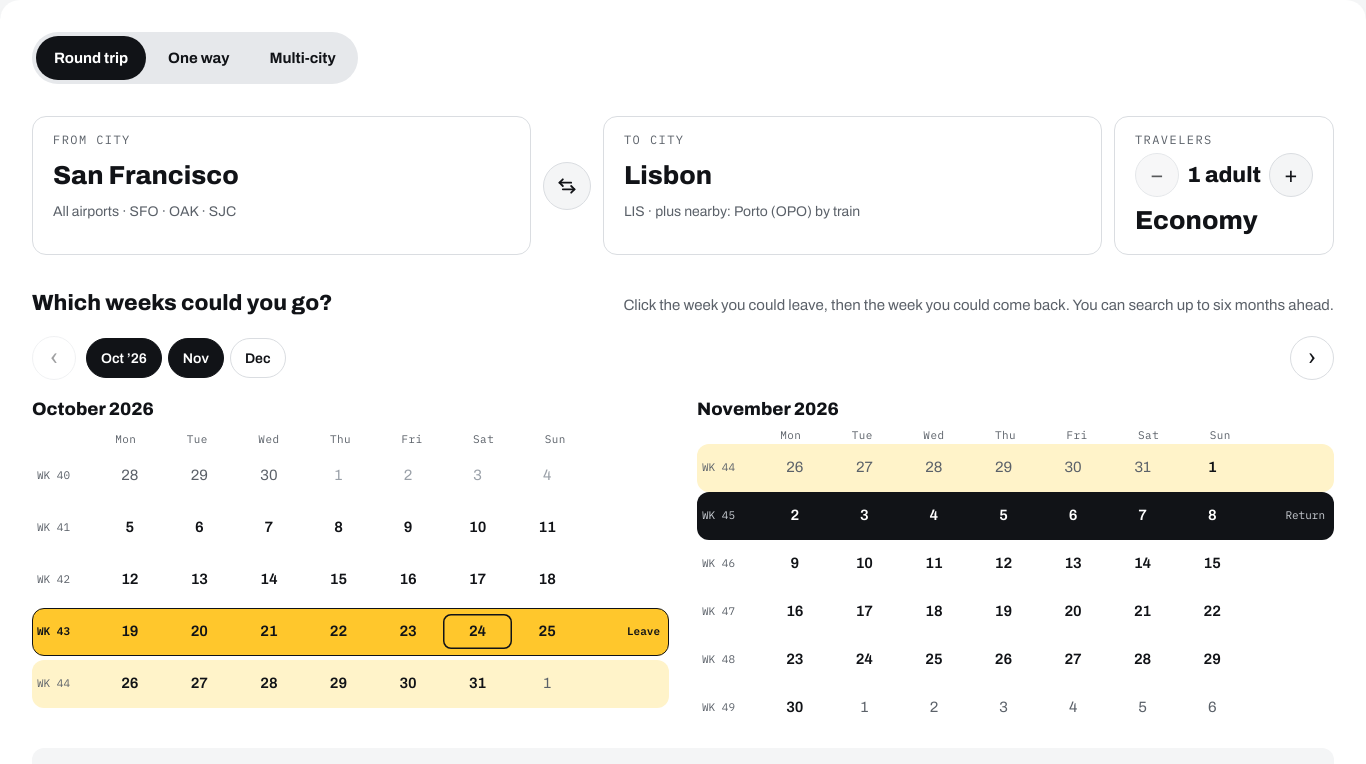
Scenario: trip type tabs › switching back to round trip suggests a return week
Click the button "One way" at (199, 58), box x1=150 y1=36 x2=247 y2=80
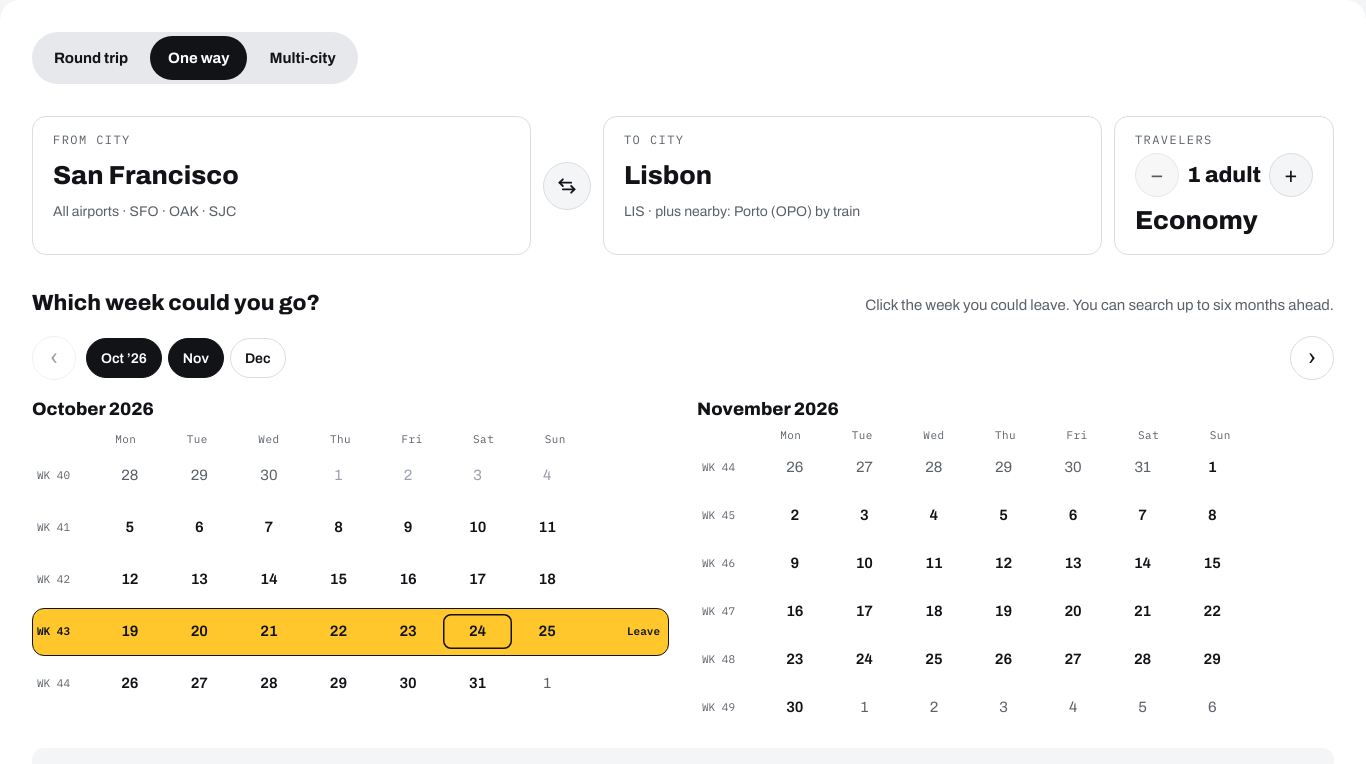
Click the button "Round trip" at (91, 58), box x1=36 y1=36 x2=146 y2=80
(page scrolled)
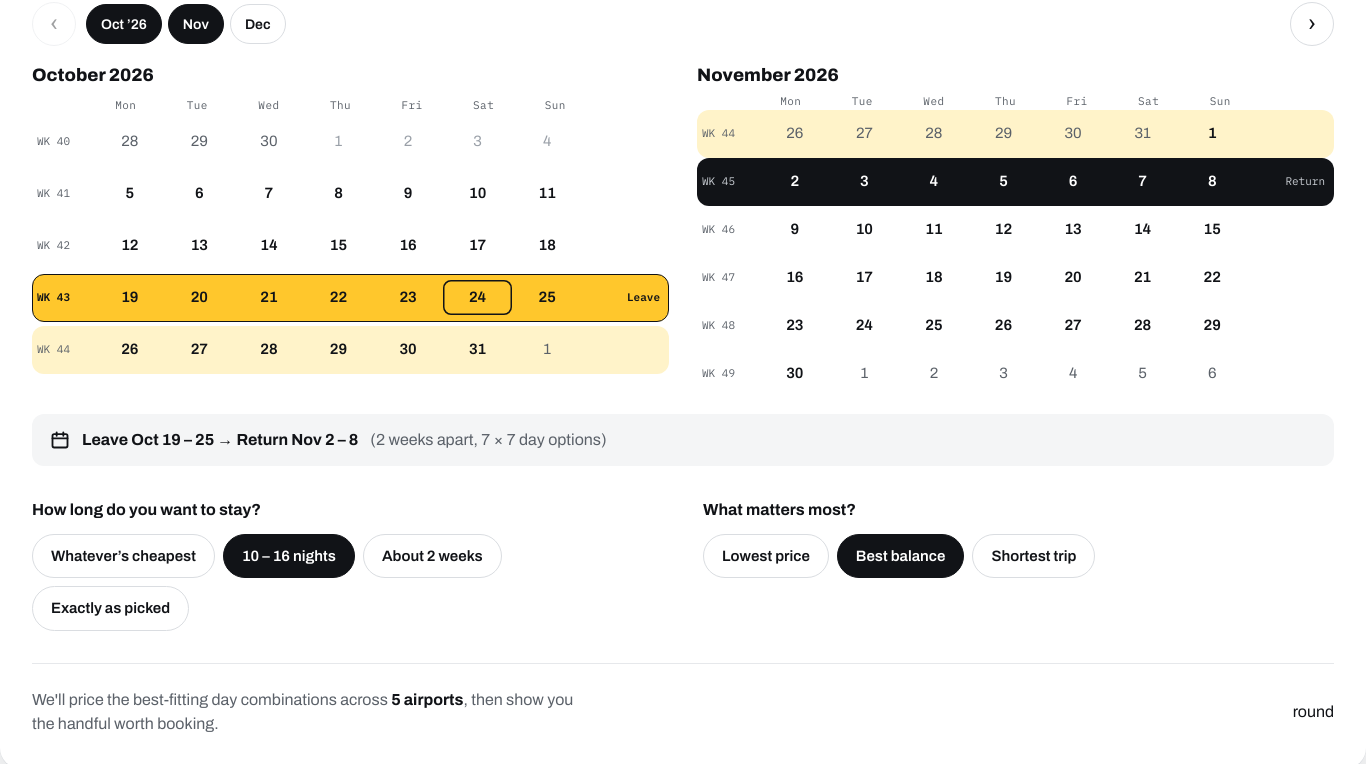
Expected: the text "Leave Oct 19 – 25 → Return Nov 2 – 8" is shown, x1=82 y1=428 x2=358 y2=452
Expected: the heading "How long do you want to stay?" is shown, x1=32 y1=500 x2=261 y2=518
